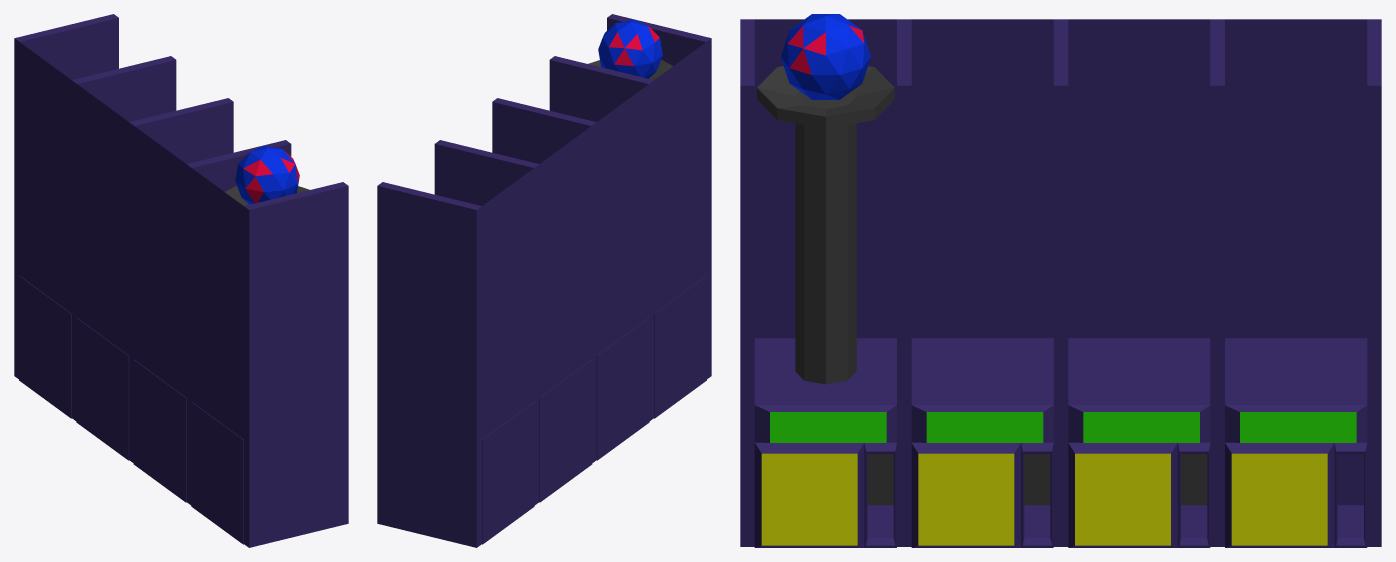
File: PlayerSelection.fbx
The picture shows the model from 3 angles, left to right: view 1: azimuth 30°, elevation 25°; view 2: azimuth 150°, elevation 25°; view 3: azimuth 270°, elevation 25°; orthographic projection. The views are drawn at different scales.
Visible parts, largest first — view 1: SelectionBox, Ball; view 2: SelectionBox, Ball; view 3: SelectionBox, Launcher, Ball.
Part boxes in pixels (x1,y1,x2,y2): SelectionBox: [14, 14, 348, 547]; Ball: [235, 145, 299, 204]; SelectionBox: [377, 14, 711, 547]; Ball: [598, 19, 662, 78]; SelectionBox: [740, 19, 1381, 547]; Launcher: [757, 66, 894, 384]; Ball: [781, 14, 870, 99].
Size of the model in its own units: 216 by 702 by 818.
